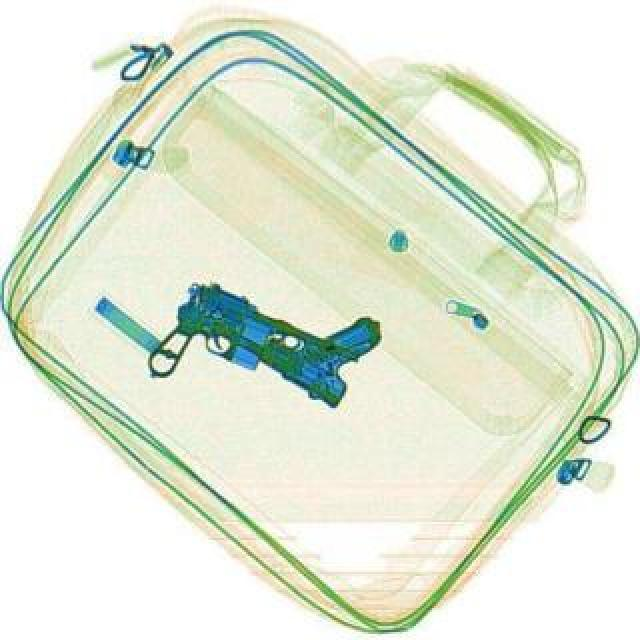gun: (140, 274, 362, 444), (202, 254, 390, 410)
